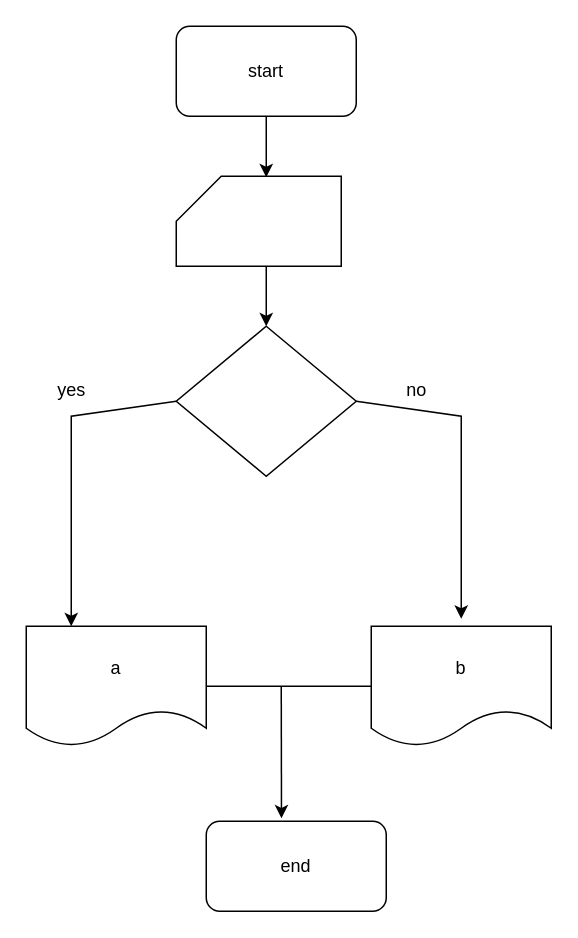
Image size: 578x938. Some labels were removed from this diagram. Here are the shapes that lost their labels. From the top down, the box of each, then its label:
(175, 175, 341, 266): a: int b: int
(175, 325, 356, 476): Is A greater then B?
